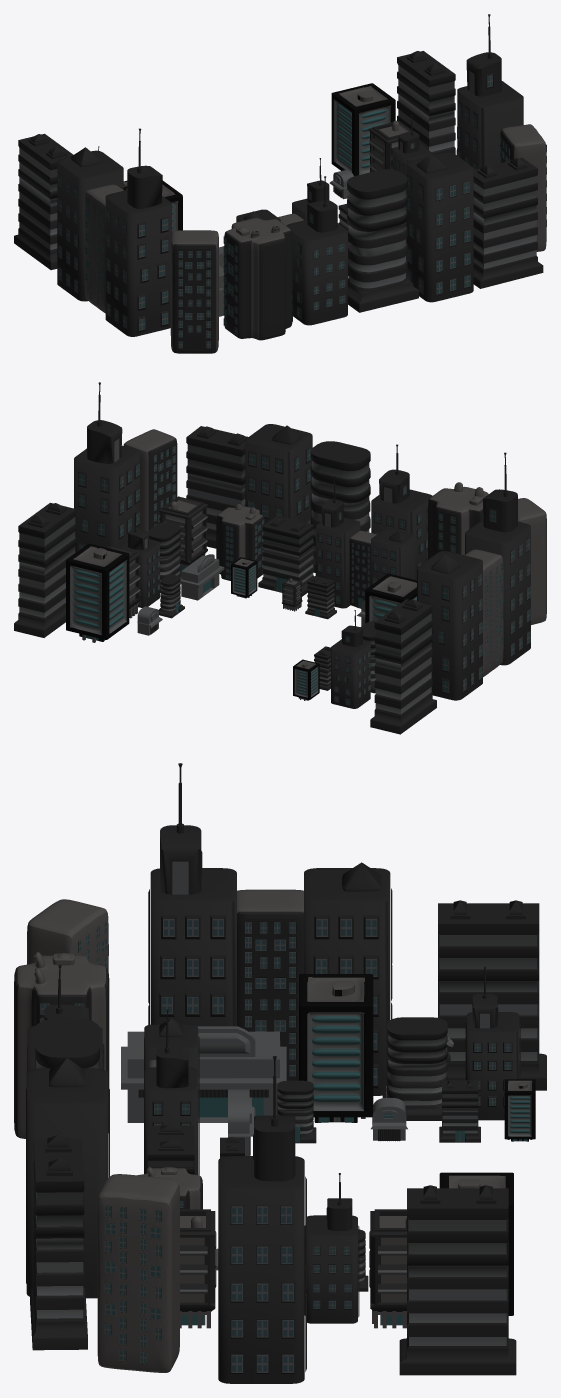
File: Cidade Quadrada.fbx
3 renders of one model, top to bottom at view 1: azimuth 30°, elevation 25°; view 2: azimuth 150°, elevation 25°; view 3: azimuth 270°, elevation 25°, orthographic. The views are drawn at different scales.
Parts seen in each view (by area): view 1: Cube.125, Cube.111, Cube.138, Cube.107, Cube.141, Cube.110, Cube.132, Cube.109, Cube.094, Cube.105, Cube.124, Cube.103 (+17 smaller); view 2: Cube.132, Cube.124, Cube.105, Cube.094, Cube.103, Cube.125, Cube.138, Cube.107, Cube.111, Cube.108, Cube.110, Cube.093 (+35 smaller); view 3: Cube.105, Cube.094, Cube.132, Cube.093, Cube.125, Cube.138, Cube.133, Cube.107, Cube.124, Cube.137, Cube.123, Cube.141 (+25 smaller).
Boxes of the visible parts, x1,y1,x2,y2 form: Cube.125: (105,128,171,336); Cube.111: (347,169,418,312); Cube.138: (473,157,543,288); Cube.107: (406,152,473,302); Cube.141: (224,218,292,340); Cube.110: (286,176,347,325); Cube.132: (14,133,73,269); Cube.109: (170,230,218,353); Cube.094: (457,14,523,168); Cube.105: (397,51,455,154); Cube.124: (57,147,123,301); Cube.103: (331,83,395,176); Cube.132: (370,599,436,734); Cube.124: (417,551,482,700); Cube.105: (14,502,76,637); Cube.094: (74,382,139,552); Cube.103: (66,543,129,641); Cube.125: (465,452,530,665); Cube.138: (186,426,248,548); Cube.107: (245,424,312,524); Cube.111: (310,441,370,572); Cube.108: (258,515,314,596); Cube.110: (371,444,432,580); Cube.093: (123,429,177,531); Cube.105: (399,1185,516,1375); Cube.094: (218,1056,304,1383); Cube.132: (438,900,546,1090); Cube.093: (97,1174,179,1372); Cube.125: (150,763,236,1026); Cube.138: (30,1135,87,1350); Cube.133: (299,974,373,1122); Cube.107: (26,1058,107,1298); Cube.124: (304,862,390,1095); Cube.137: (121,1026,286,1122); Cube.123: (237,889,303,1080); Cube.141: (14,952,109,1138).
Size of the model in its own units: 29824 by 13464 by 20820.
